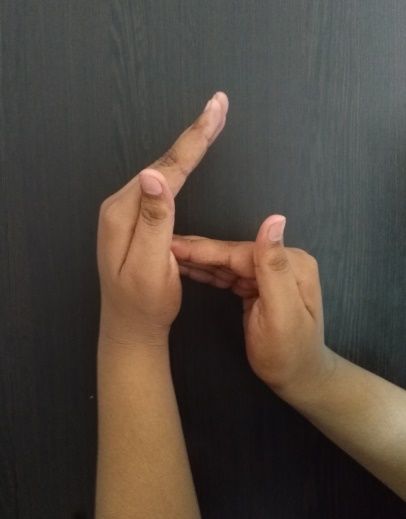ga: (97, 92, 326, 392)
